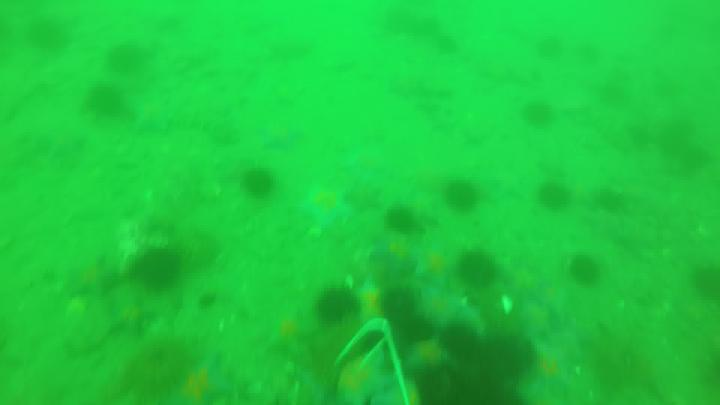echinus: (416, 367, 481, 405), (484, 335, 532, 384), (437, 328, 483, 372), (136, 253, 180, 290), (88, 85, 128, 120), (319, 289, 360, 323), (477, 374, 525, 403), (522, 97, 558, 133), (442, 180, 477, 213), (461, 251, 499, 278), (386, 293, 421, 322), (109, 46, 149, 71), (689, 267, 720, 299), (570, 251, 598, 285), (537, 183, 571, 210), (243, 173, 276, 198), (385, 206, 414, 232), (598, 186, 626, 212)
scallop: (503, 295, 516, 317)
starfish: (540, 321, 590, 377), (345, 143, 405, 188), (303, 185, 358, 229), (188, 354, 232, 405), (415, 232, 457, 280), (526, 280, 573, 321), (370, 236, 420, 273), (444, 298, 479, 337), (422, 274, 453, 318), (260, 123, 306, 152)
